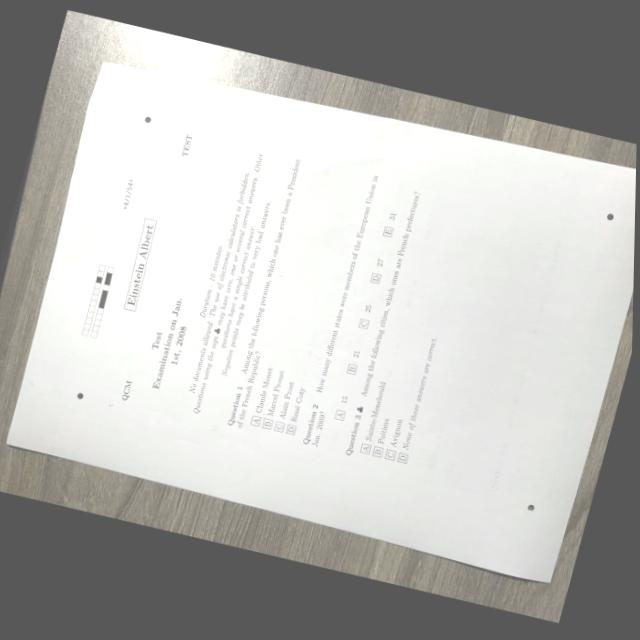Markers: (527, 502, 535, 511), (606, 211, 614, 219), (144, 115, 151, 122), (76, 392, 83, 398)
